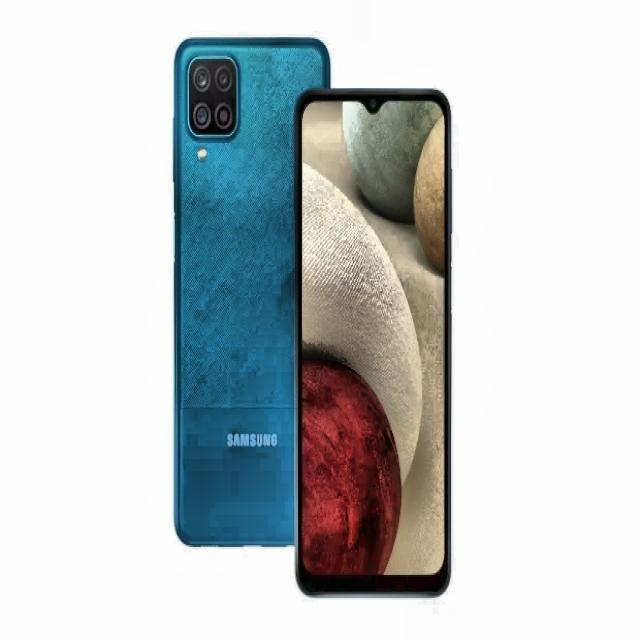Phone: (172, 33, 332, 550), (294, 84, 452, 596)
